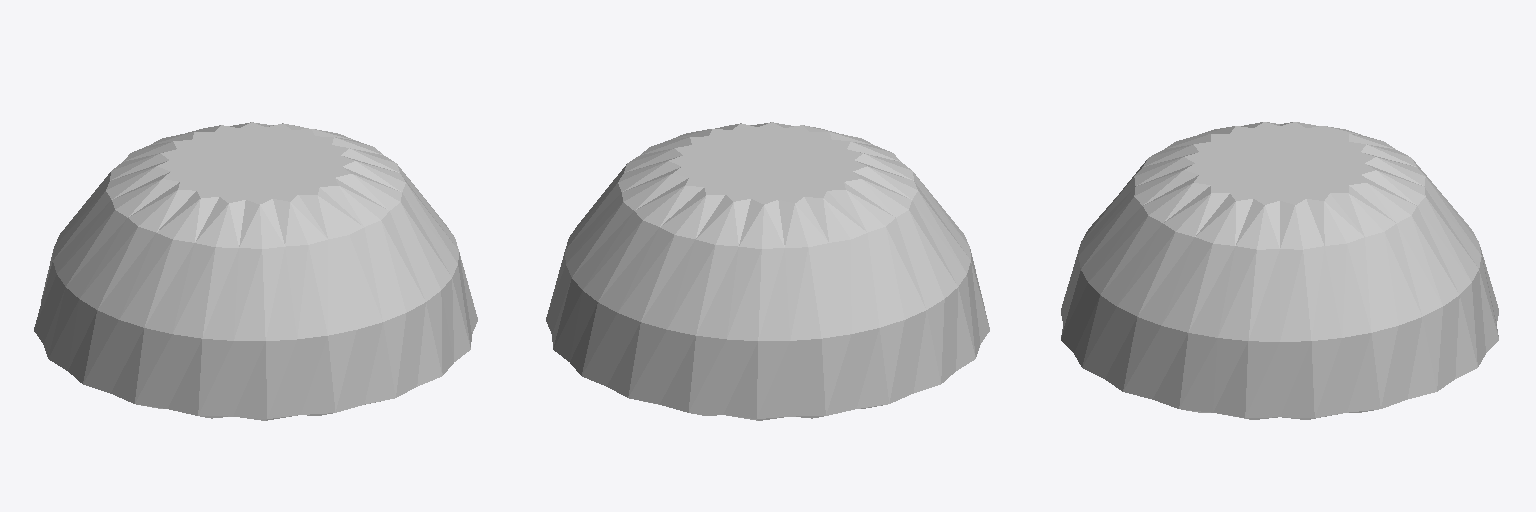
The model's file is leftlegsleeve.obj.
3 renders of one model, left to right at view 1: azimuth 30°, elevation 25°; view 2: azimuth 150°, elevation 25°; view 3: azimuth 270°, elevation 25°, orthographic.
Visible parts, largest first — view 1: polySurface6 leftleg spongebob; view 2: polySurface6 leftleg spongebob; view 3: polySurface6 leftleg spongebob.
Part boxes in pixels (x1,y1,x2,y2): polySurface6 leftleg spongebob: (34, 122, 477, 420); polySurface6 leftleg spongebob: (546, 122, 989, 420); polySurface6 leftleg spongebob: (1061, 122, 1498, 419).
Size of the model in its own units: 1.32 by 0.6148 by 1.32.